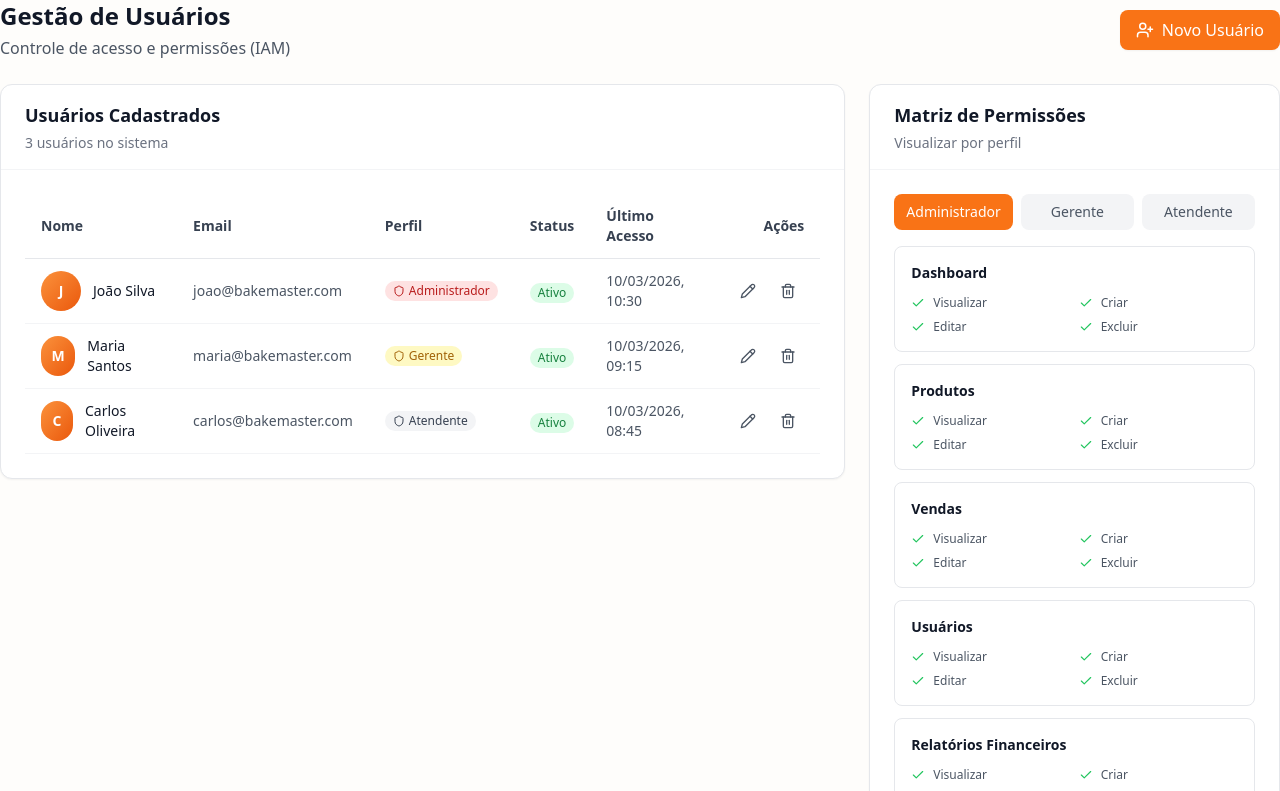
Users › Create User › submits new user
This screenshot has width=1280, height=791.
Click the button "Novo Usuário" at x=1200, y=30, box [1120, 10, 1279, 50]
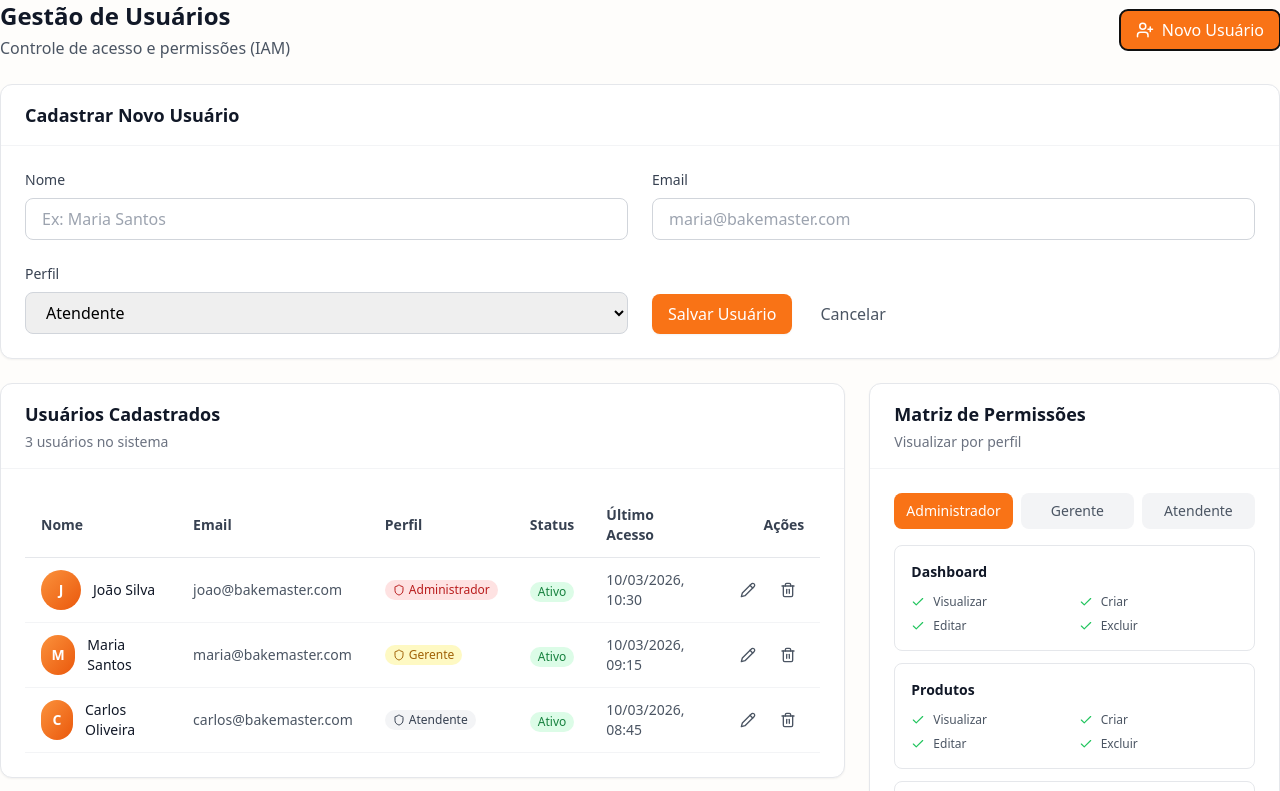
Type "Novo Teste" into the field with placeholder "Ex: Maria Santos" at x=326, y=219, box [25, 198, 628, 240]
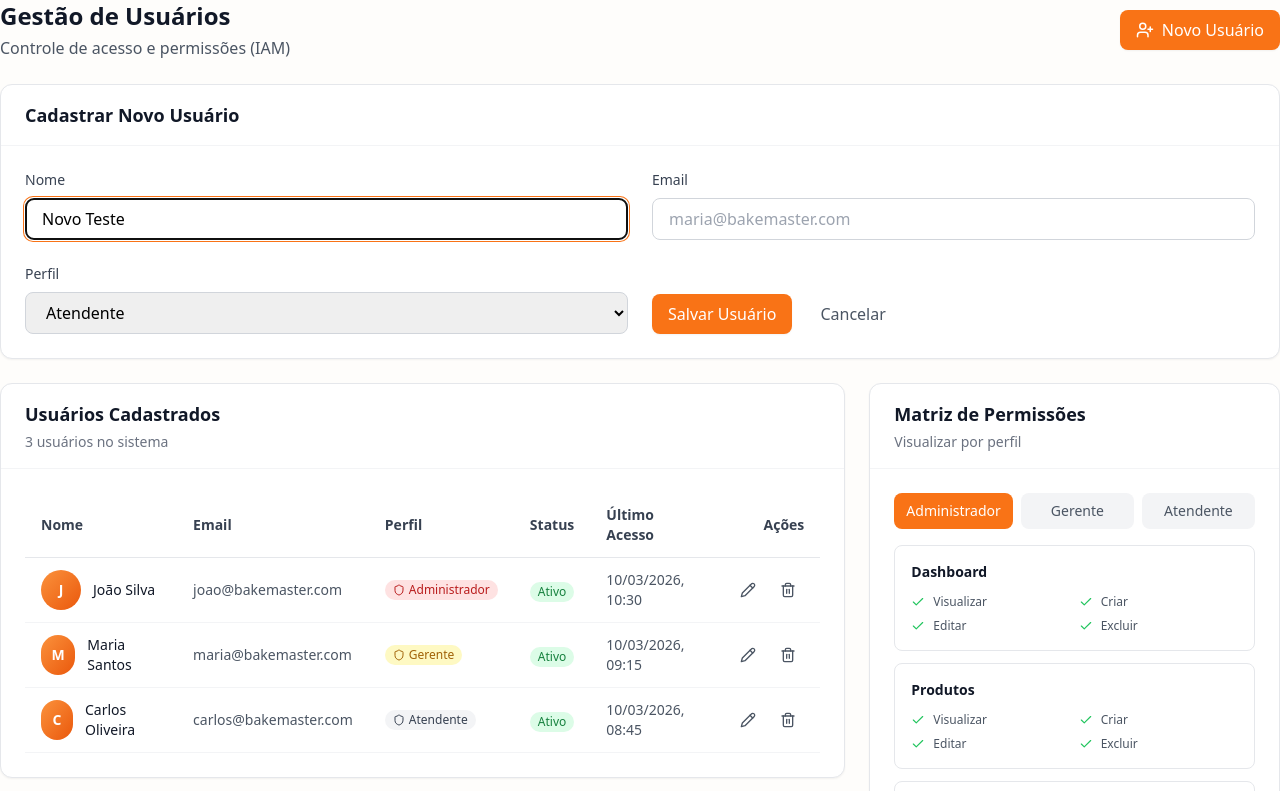
Type "novo@bakemaster.com" into the field with placeholder "maria@bakemaster.com" at x=954, y=219, box [652, 198, 1255, 240]
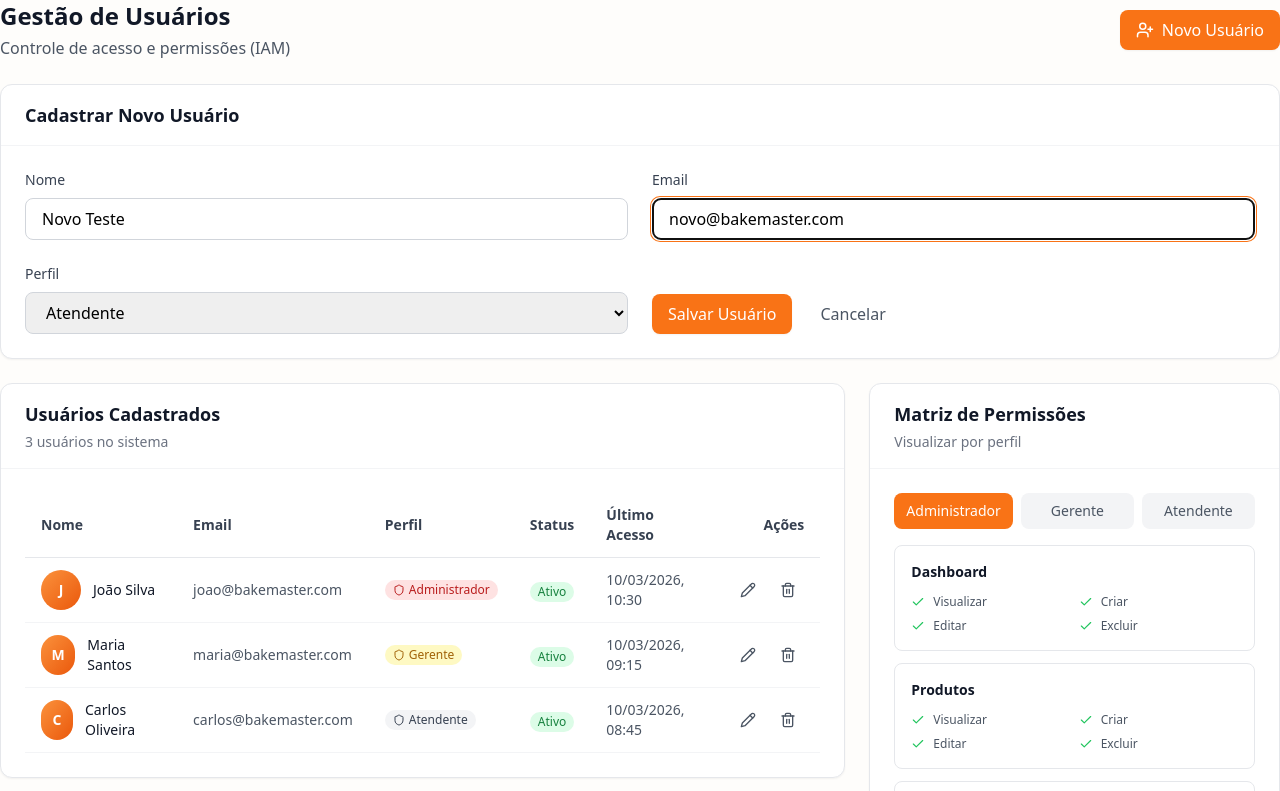
Click the button "Salvar Usuário" at x=722, y=314, box [652, 294, 792, 334]
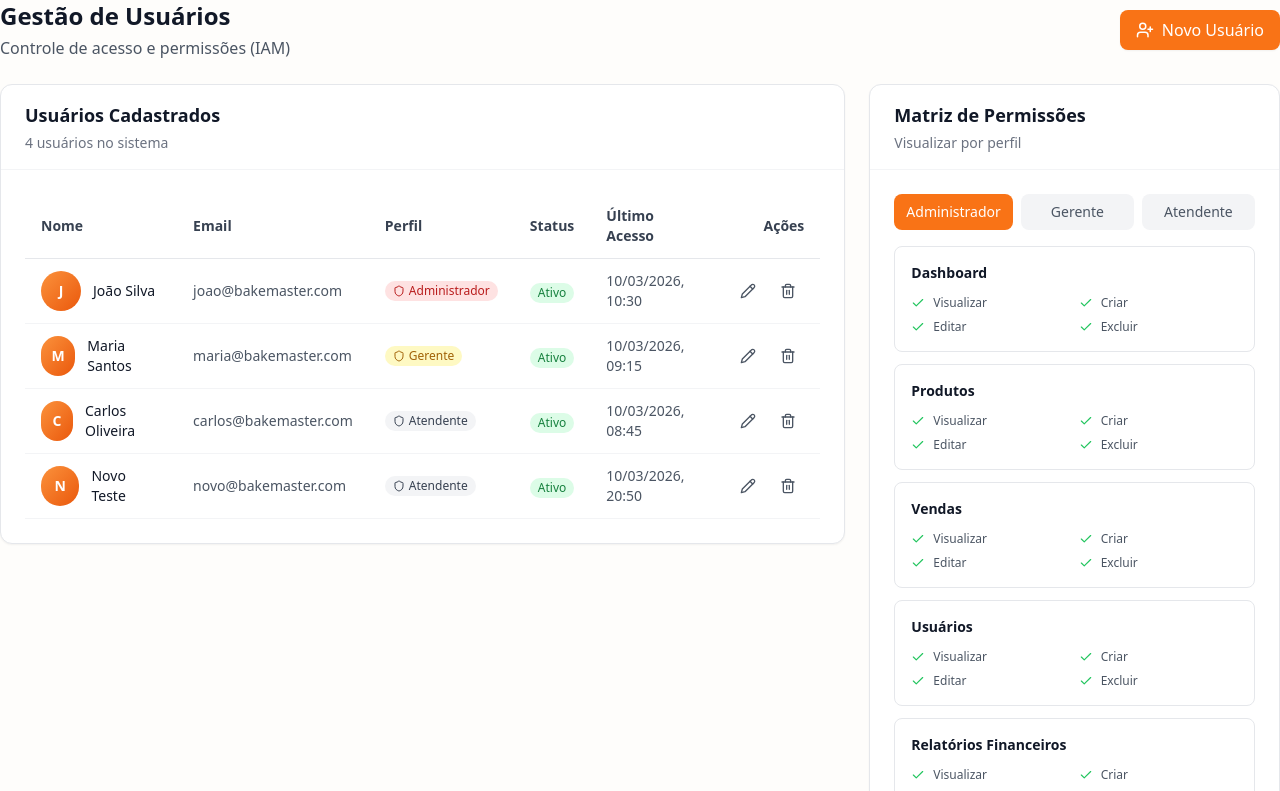
Check: the text "Novo Teste" is shown, box [92, 466, 126, 505]
